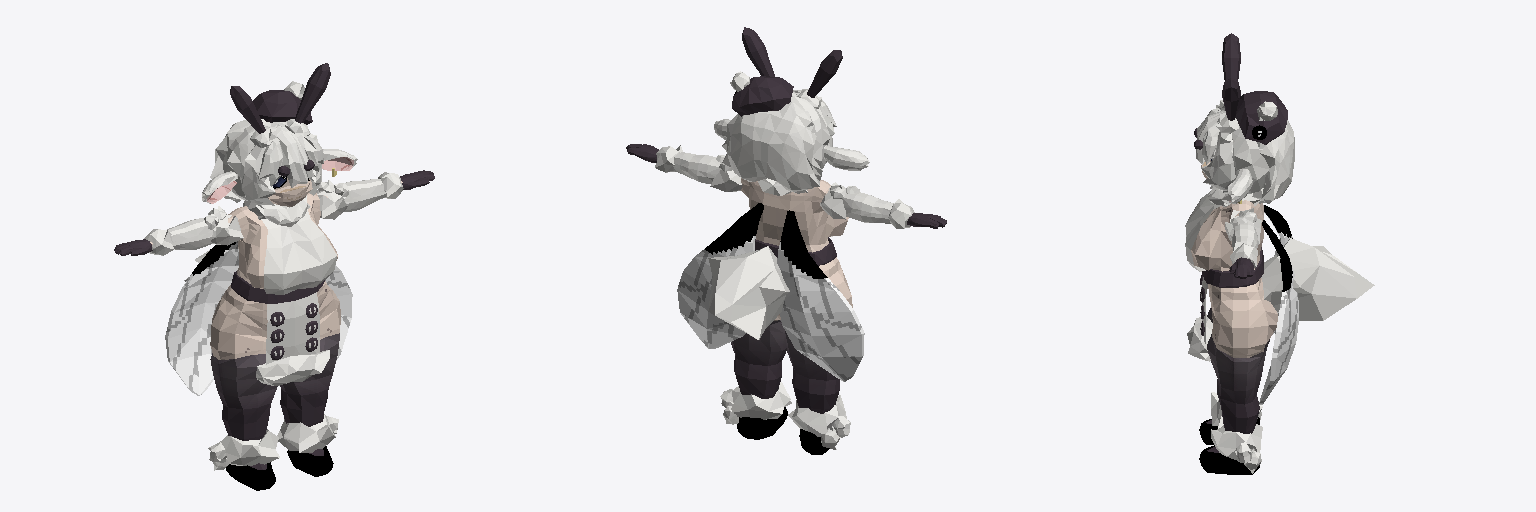
3 renders of one model, left to right at view 1: azimuth 30°, elevation 25°; view 2: azimuth 150°, elevation 25°; view 3: azimuth 270°, elevation 25°, orthographic.
Parts seen in each view (by area): view 1: Moth geo polySurface48, Moth geo polySurface33, Moth geo polySurface28, Moth geo polySurface46, Moth geo polySurface47, Moth geo polySurface32, Moth geo polySurface61, Moth geo polySurface72, Moth geo polySurface75, Moth geo polySurface51, Moth geo polySurface35, Moth geo polySurface37 (+13 smaller); view 2: Moth geo polySurface28, Moth geo polySurface41, Moth geo polySurface44, Moth geo polySurface33, Moth geo polySurface29, Moth geo polySurface47, Moth geo polySurface46, Moth geo polySurface51, Moth geo polySurface75, Moth geo polySurface52, Moth geo polySurface72, Moth geo polySurface53 (+6 smaller); view 3: Moth geo polySurface33, Moth geo polySurface44, Moth geo polySurface47, Moth geo polySurface29, Moth geo polySurface41, Moth geo polySurface48, Moth geo polySurface51, Moth geo polySurface37, Moth geo polySurface36, Moth geo polySurface75, Moth geo polySurface34, Moth geo polySurface30 (+3 smaller).
Boxes of the visible parts, x1=… form: Moth geo polySurface48: x1=231, y1=209, x2=336, y2=364; Moth geo polySurface33: x1=150, y1=181, x2=402, y2=490; Moth geo polySurface28: x1=165, y1=241, x2=238, y2=395; Moth geo polySurface46: x1=210, y1=353, x2=277, y2=469; Moth geo polySurface47: x1=280, y1=333, x2=339, y2=455; Moth geo polySurface32: x1=202, y1=149, x2=357, y2=206; Moth geo polySurface61: x1=256, y1=350, x2=329, y2=385; Moth geo polySurface72: x1=220, y1=429, x2=279, y2=465; Moth geo polySurface75: x1=277, y1=414, x2=335, y2=452; Moth geo polySurface51: x1=253, y1=90, x2=312, y2=124; Moth geo polySurface35: x1=241, y1=126, x2=282, y2=205; Moth geo polySurface37: x1=223, y1=119, x2=317, y2=208; Moth geo polySurface28: x1=777, y1=210, x2=864, y2=381; Moth geo polySurface41: x1=722, y1=102, x2=822, y2=193; Moth geo polySurface44: x1=708, y1=246, x2=789, y2=339; Moth geo polySurface33: x1=741, y1=178, x2=852, y2=454; Moth geo polySurface29: x1=677, y1=203, x2=763, y2=348; Moth geo polySurface47: x1=731, y1=320, x2=786, y2=398; Moth geo polySurface46: x1=781, y1=323, x2=839, y2=413; Moth geo polySurface51: x1=732, y1=76, x2=793, y2=116; Moth geo polySurface75: x1=731, y1=382, x2=791, y2=419; Moth geo polySurface52: x1=842, y1=192, x2=893, y2=223; Moth geo polySurface72: x1=788, y1=395, x2=846, y2=436; Moth geo polySurface53: x1=673, y1=152, x2=720, y2=183; Moth geo polySurface33: x1=1191, y1=200, x2=1277, y2=444; Moth geo polySurface44: x1=1261, y1=238, x2=1374, y2=320; Moth geo polySurface47: x1=1207, y1=334, x2=1269, y2=452; Moth geo polySurface29: x1=1259, y1=220, x2=1298, y2=404; Moth geo polySurface41: x1=1252, y1=120, x2=1294, y2=203; Moth geo polySurface48: x1=1185, y1=191, x2=1263, y2=343; Moth geo polySurface51: x1=1236, y1=91, x2=1287, y2=144; Moth geo polySurface37: x1=1223, y1=126, x2=1269, y2=193; Moth geo polySurface36: x1=1201, y1=132, x2=1235, y2=190; Moth geo polySurface75: x1=1211, y1=416, x2=1262, y2=459; Moth geo polySurface34: x1=1199, y1=445, x2=1259, y2=474; Moth geo polySurface30: x1=1222, y1=33, x2=1240, y2=80.
Bounding box in the file's own units: 20.98 × 25.06 × 10.78.
1 materials, 1 textured.